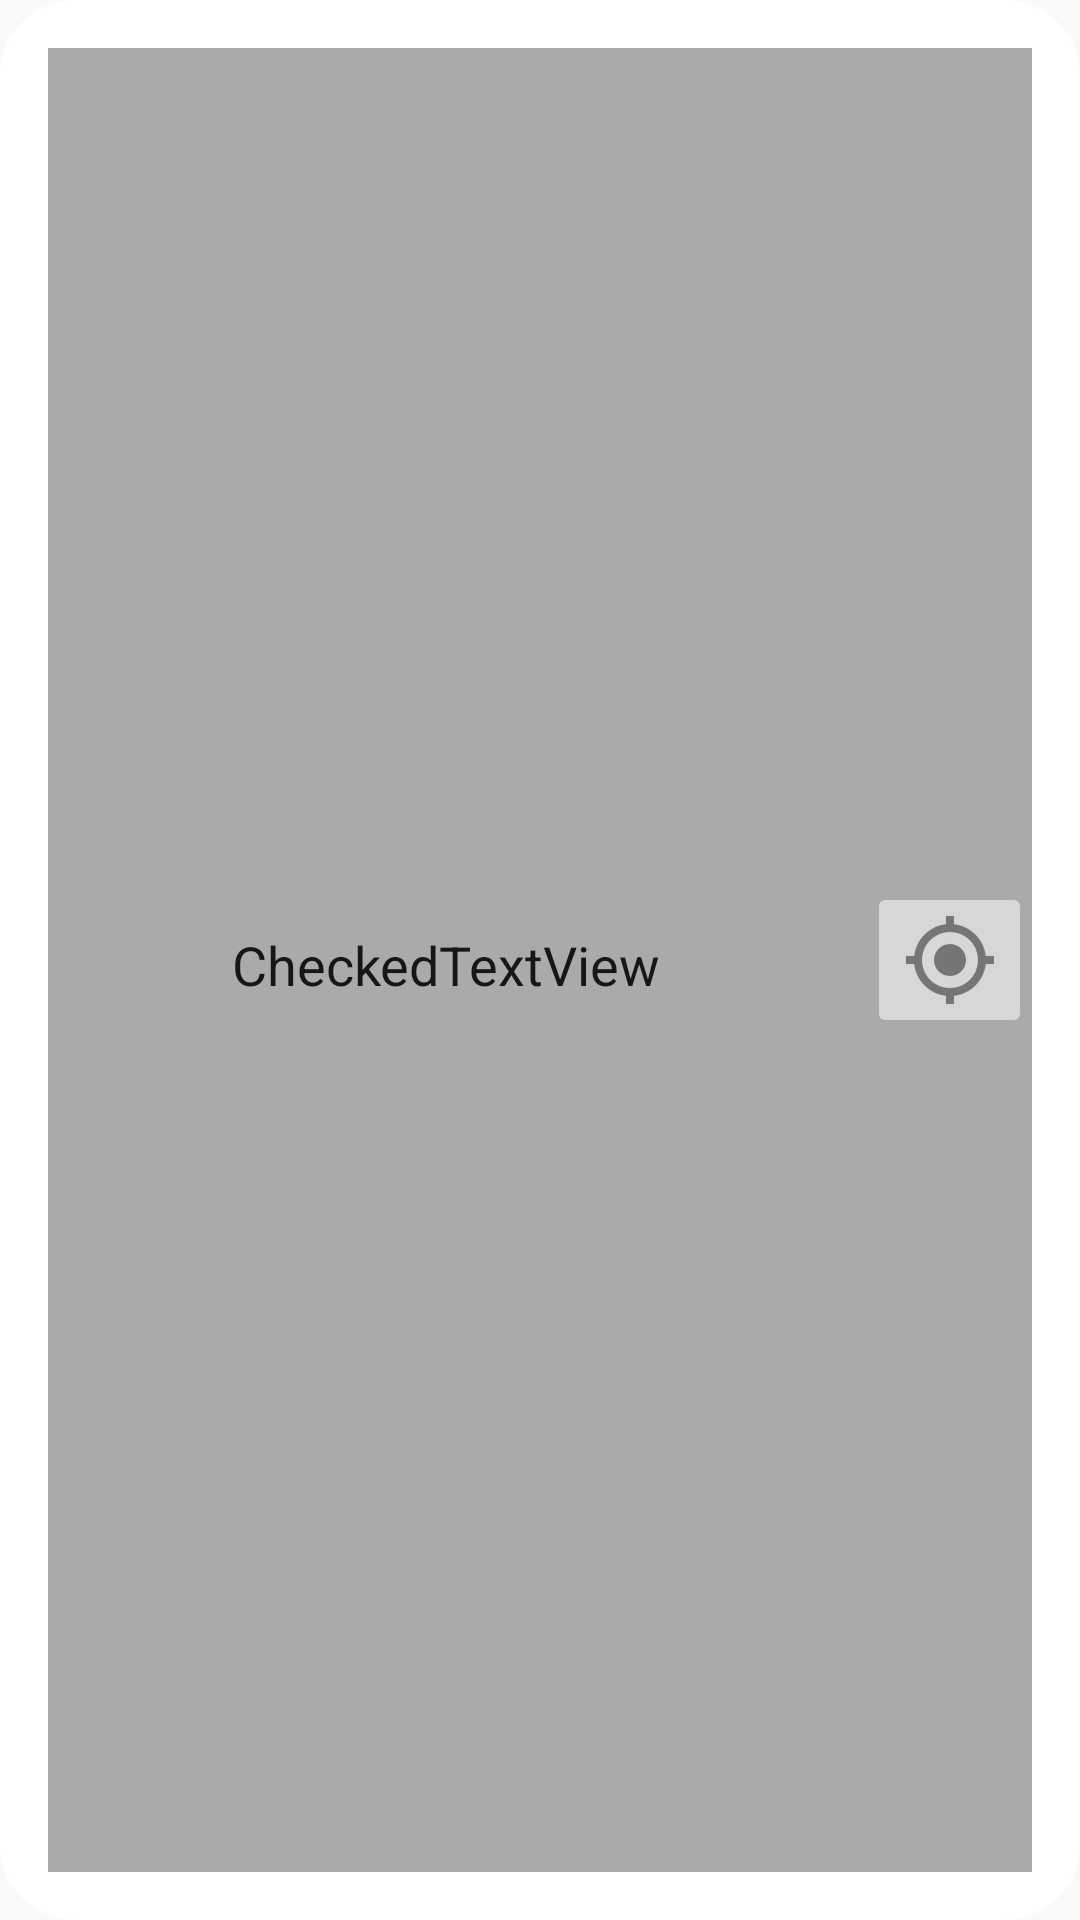

Where to tap for icons on this 1080 x 1920 app screen, as point (x, y):
location: point (949, 960)
